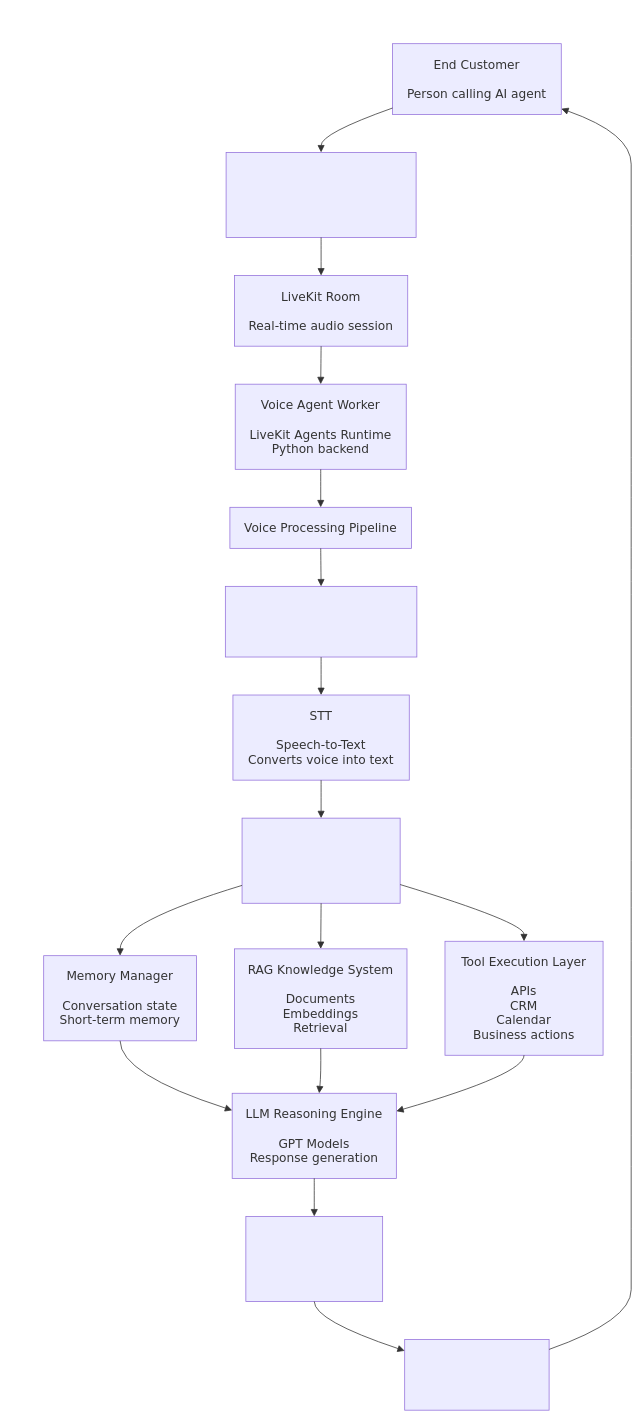
The diagram is 644 pixels wide and 1423 high, and some of its shapes have lost their labels. The shapes that lost their labels are listed below. From the top down, each one's centre as x and y in pixels, then its label:
At (x=320, y=195): "Twilio SIP Trunk Phone network connection Inbound / Outbound calls".
At (x=321, y=621): "VAD Detects speech boundaries".
At (x=320, y=860): "Agent Runtime LangGraph Workflow Decision making".
At (x=314, y=1259): "TTS Text-to-Speech Voice generation".
At (x=476, y=1374): "Audio Response Returned to caller".
